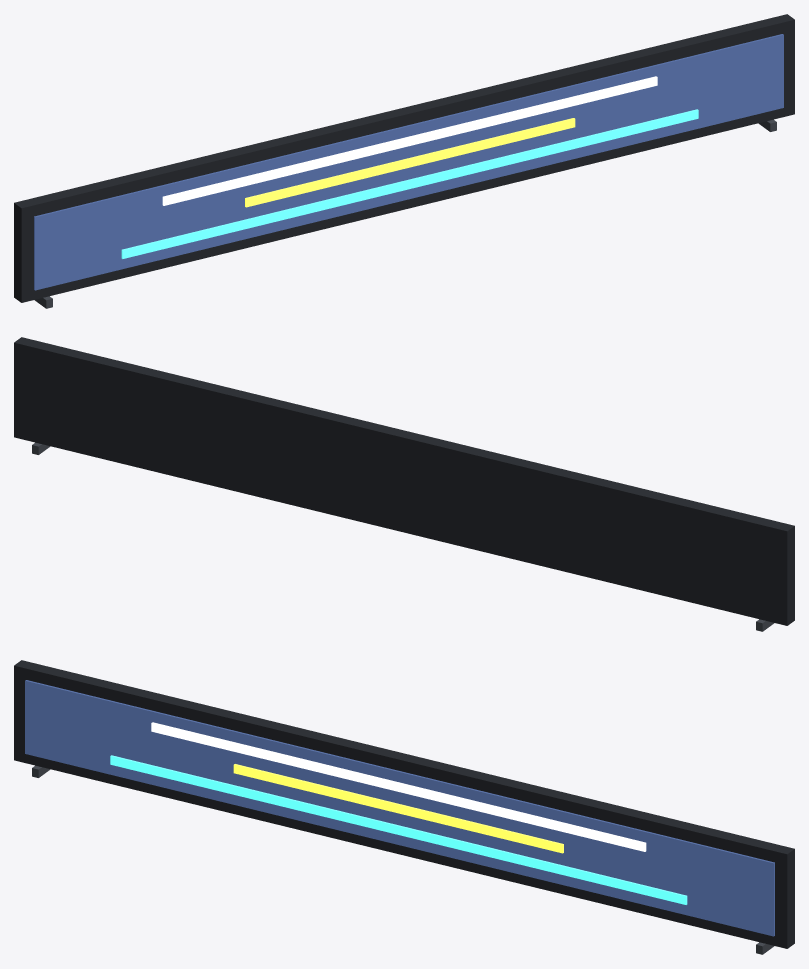
File: stage_screen.glb
3 views of the same model, one above another, from view 1: azimuth 30°, elevation 25°; view 2: azimuth 150°, elevation 25°; view 3: azimuth 330°, elevation 25° (orthographic).
Parts seen in each view (by area): view 1: stage_screen_mesh; view 2: stage_screen_mesh; view 3: stage_screen_mesh.
Boxes of the visible parts, <box> form: stage_screen_mesh: <box>14,14,794,308</box>; stage_screen_mesh: <box>14,337,794,631</box>; stage_screen_mesh: <box>14,660,794,954</box>.
Bounding box in the file's own units: 9.4 × 1.2 × 0.3.
